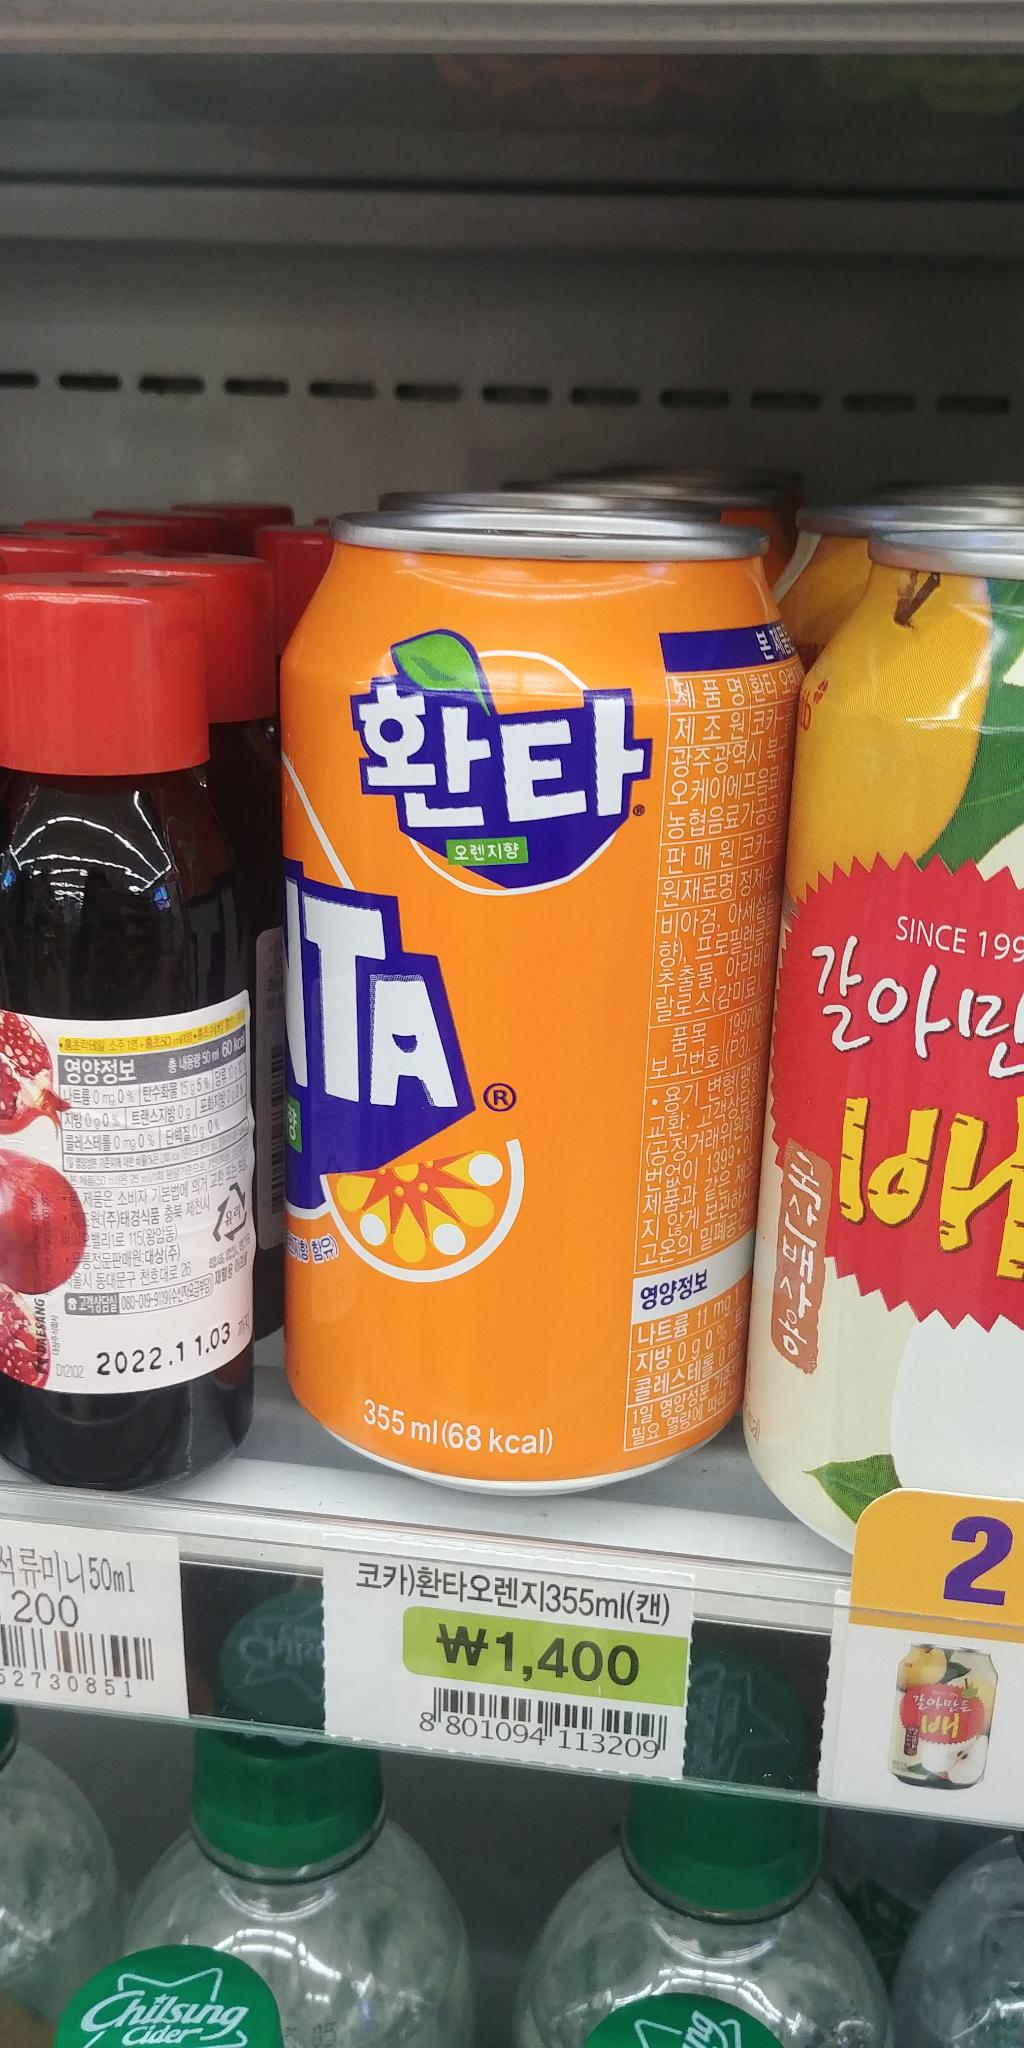fanta_orange: (282, 485, 775, 1501)
